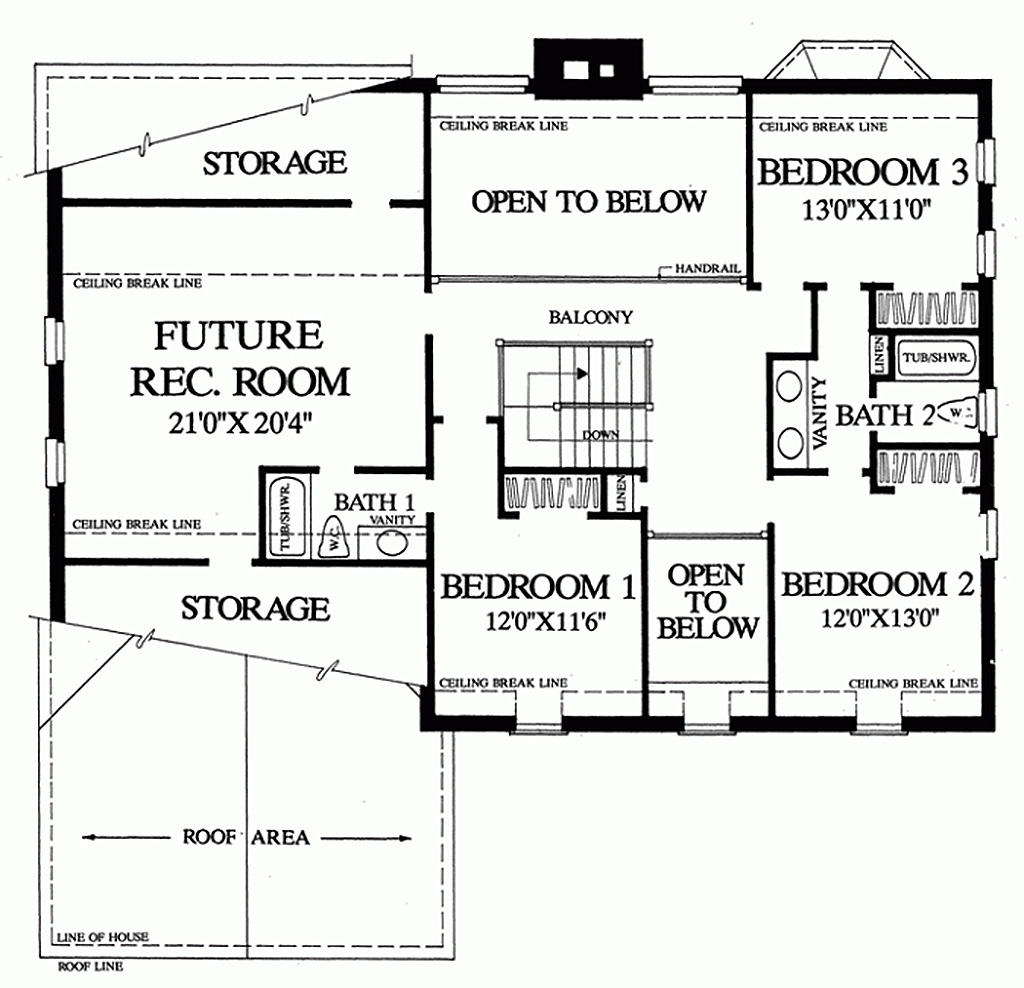large_sink: (932, 394, 987, 431), (313, 508, 351, 560)
small_sink: (766, 356, 810, 475), (354, 525, 426, 564)
stairs: (493, 339, 656, 472)
tub: (888, 332, 989, 382), (262, 470, 314, 559)
window: (433, 71, 529, 100), (641, 74, 745, 100), (971, 500, 1007, 568), (38, 430, 69, 488), (975, 225, 1002, 287), (676, 719, 740, 744), (507, 714, 569, 739), (973, 134, 1000, 188), (42, 314, 66, 374), (850, 715, 913, 734)
